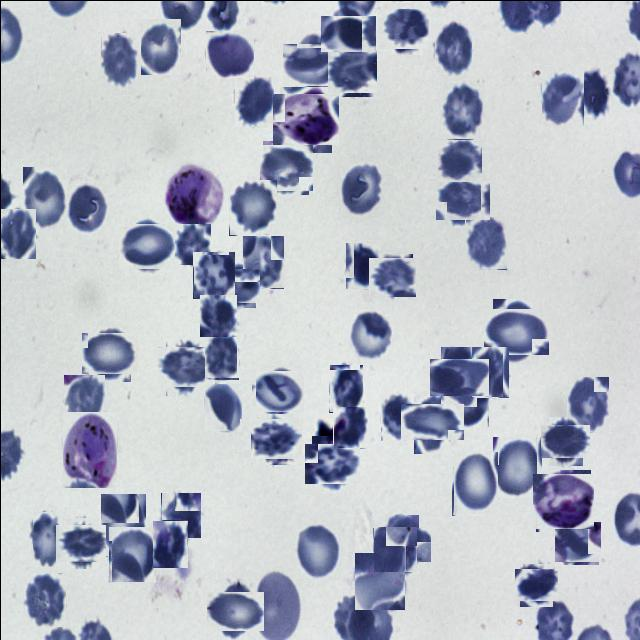difficult: (62, 411, 116, 487)
gametocyte: (164, 166, 221, 225)
red blood cell: (487, 303, 543, 359), (491, 436, 541, 498), (452, 450, 498, 514), (99, 493, 145, 556), (286, 37, 340, 90), (354, 552, 404, 609), (22, 166, 66, 228), (121, 220, 173, 272), (292, 523, 340, 579), (107, 526, 155, 582), (228, 179, 276, 235), (438, 82, 484, 138), (338, 160, 382, 218), (260, 142, 310, 192), (406, 396, 456, 446), (446, 370, 490, 426), (84, 328, 134, 377), (137, 18, 180, 74), (161, 342, 210, 391), (566, 376, 608, 432), (541, 70, 583, 126), (434, 352, 483, 400), (22, 572, 65, 626), (100, 32, 140, 90), (205, 30, 253, 78), (438, 176, 486, 224), (307, 439, 355, 487), (210, 586, 258, 634), (347, 310, 391, 362), (464, 216, 506, 269), (241, 235, 283, 288), (253, 368, 300, 414), (66, 182, 106, 236), (378, 520, 424, 566), (379, 5, 425, 51), (252, 416, 298, 462), (328, 48, 374, 94), (324, 10, 370, 56), (372, 526, 416, 572), (434, 20, 471, 74), (192, 251, 234, 298), (234, 76, 273, 126), (470, 346, 508, 397), (58, 520, 102, 564), (29, 511, 64, 566), (370, 255, 414, 298), (438, 138, 481, 182), (63, 374, 104, 420), (556, 520, 600, 562), (160, 492, 200, 538), (203, 383, 241, 431), (0, 208, 35, 258), (380, 392, 416, 440), (577, 66, 609, 120), (544, 420, 586, 461), (344, 242, 380, 289), (152, 518, 187, 566), (328, 364, 362, 412), (203, 334, 238, 380), (200, 294, 238, 336), (218, 265, 257, 305), (174, 223, 210, 264), (332, 406, 367, 448), (516, 566, 554, 604)
trophozoite: (534, 470, 592, 530), (276, 90, 334, 148)
